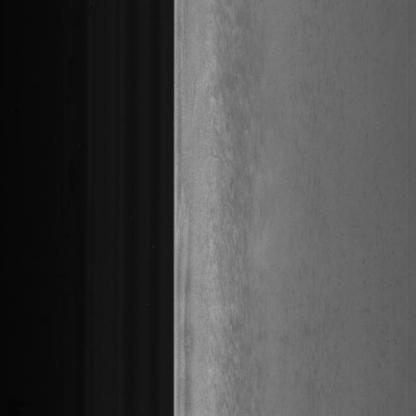silk_spot: (218, 35, 279, 337)
